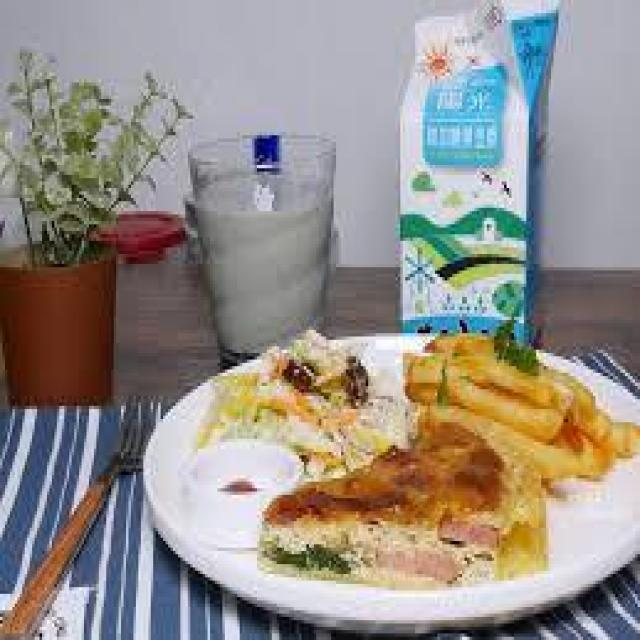TongYi_UnsweetenedBlackSoyMilk: (397, 0, 550, 348)
